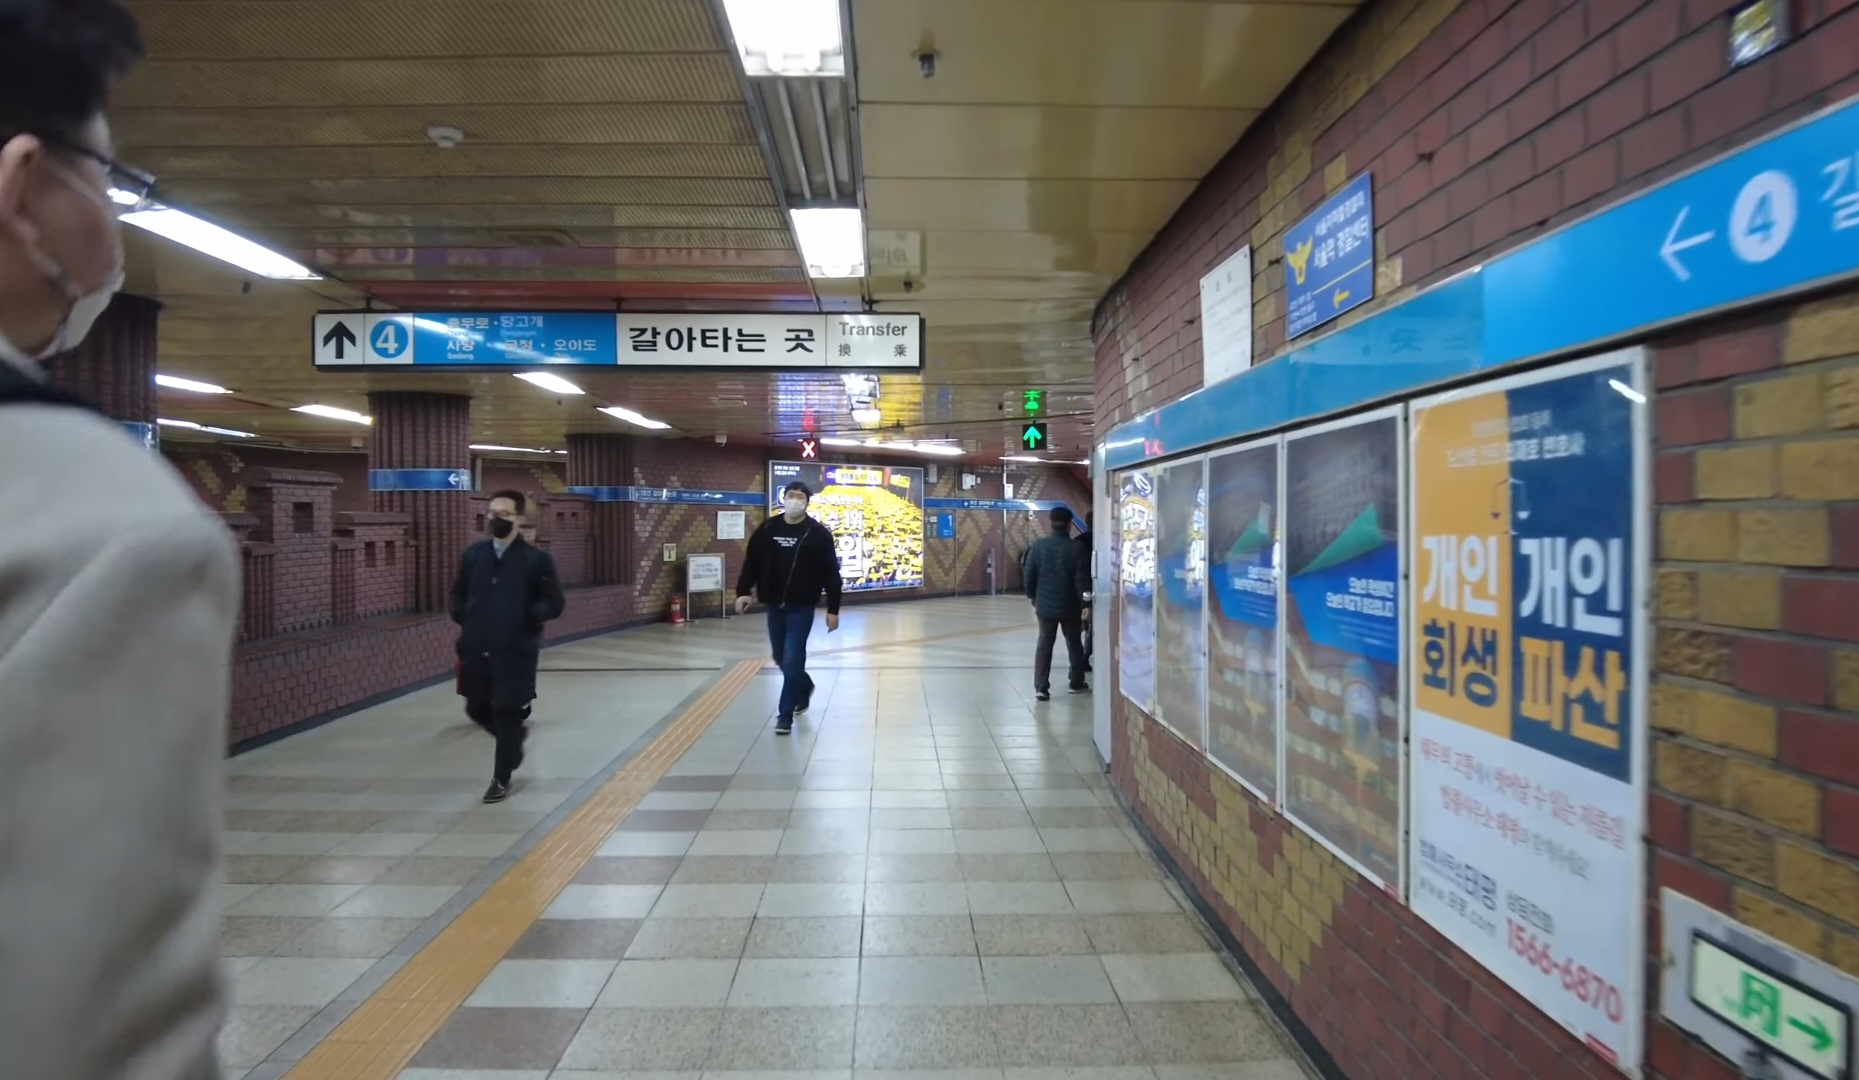signBoard: (307, 294, 935, 378)
